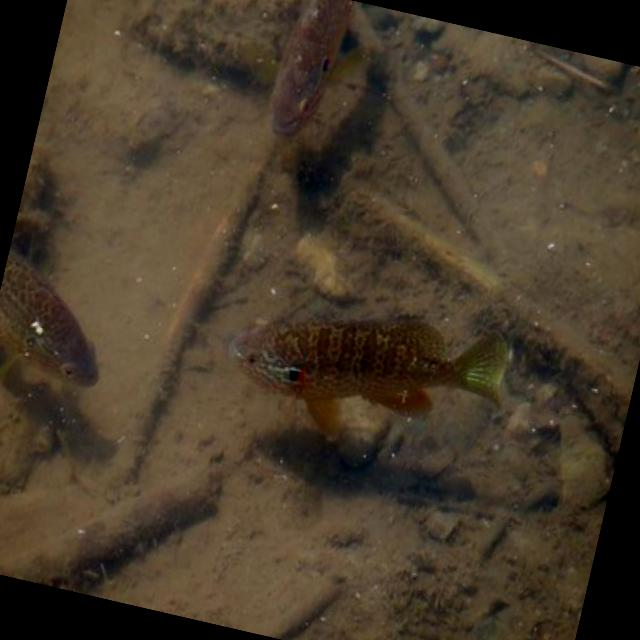Gunes Levregi: (213, 275, 534, 475)
